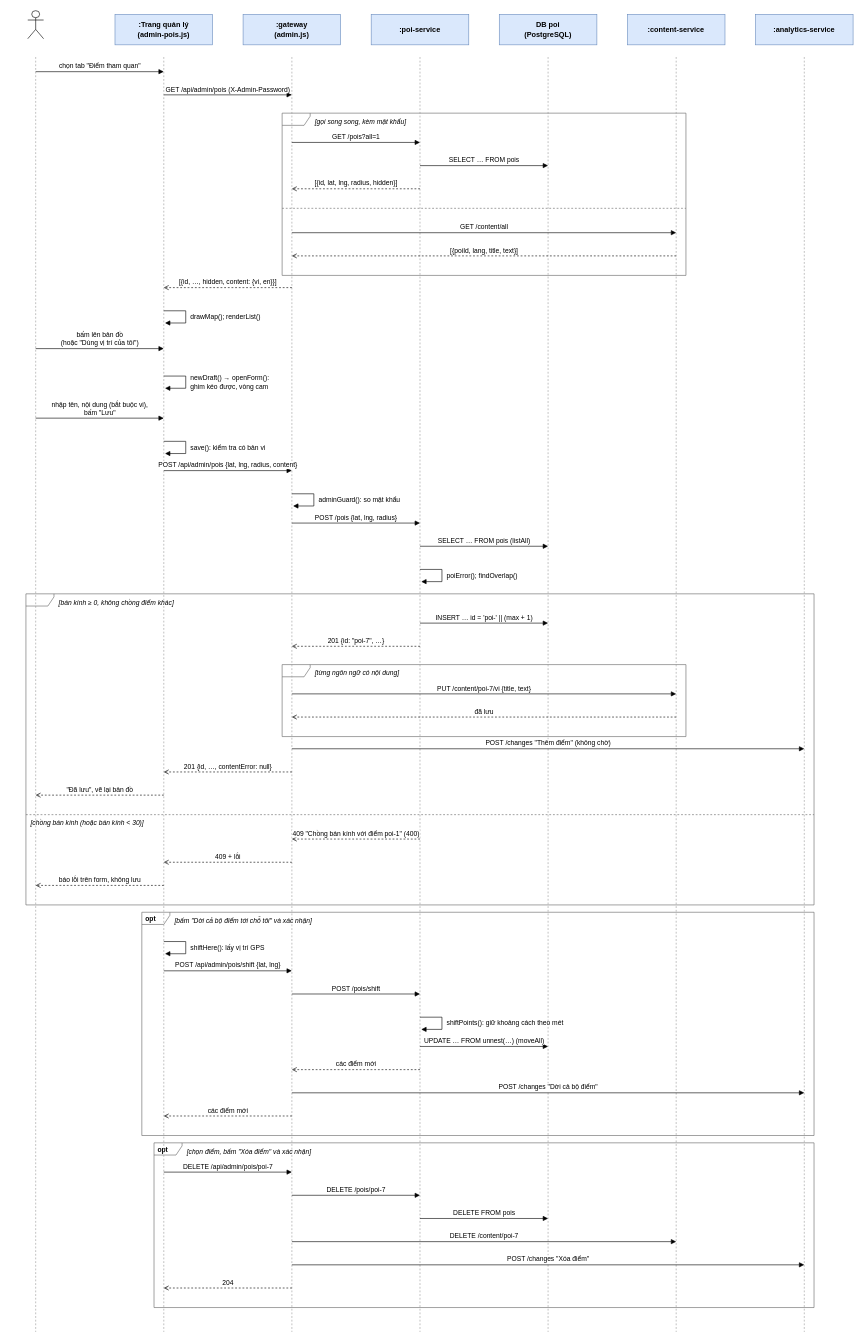
Some shapes in this 864 by 1343 pixel diagram are drawn without their labels. The box of each missing label's shape, as (x1, y1, x2, y2) in pixels:
alt: (25, 593, 814, 905)
loop: (282, 664, 686, 737)
Người quản lý: (27, 10, 44, 39)
par: (282, 113, 686, 275)
